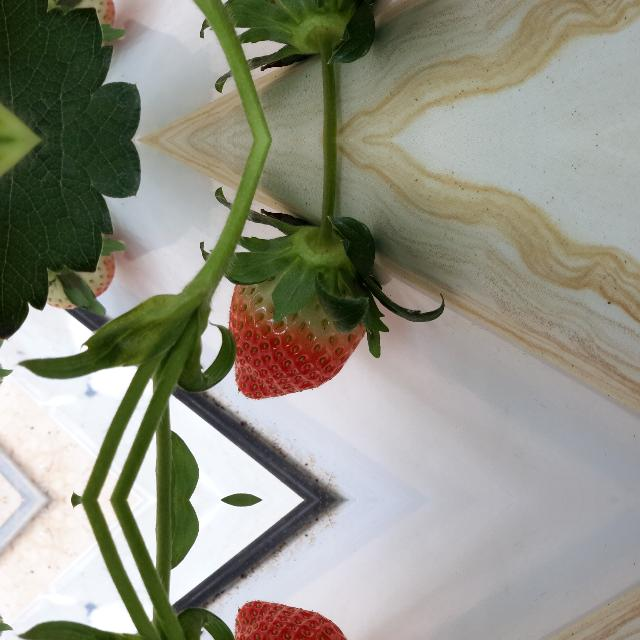Health_100: (228, 282, 366, 400), (228, 600, 366, 640)
